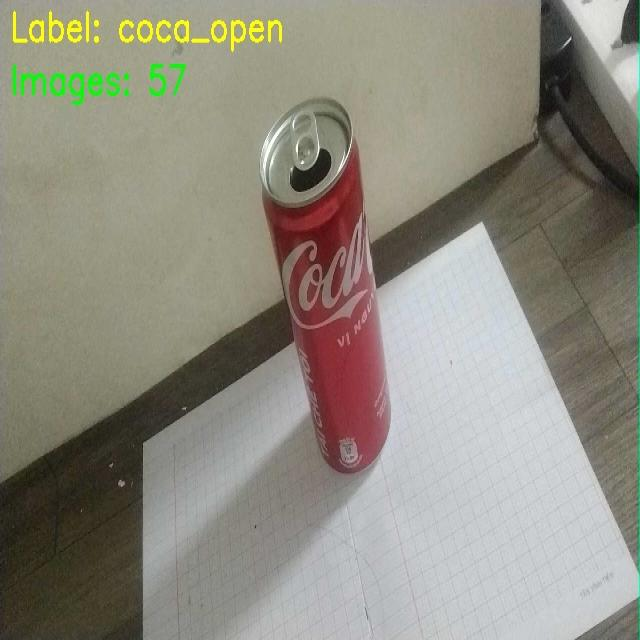Coca_open: (241, 101, 416, 482)
